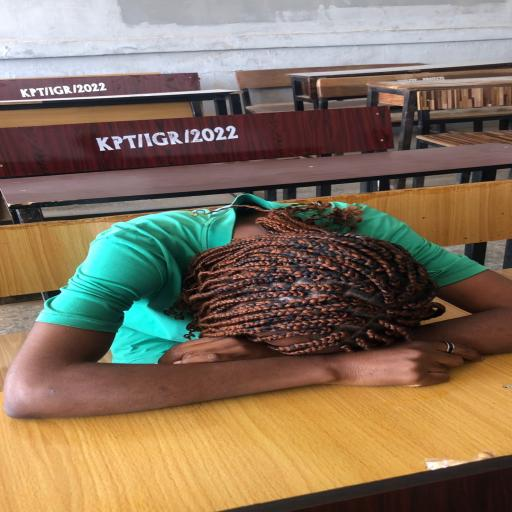Sleeping: (1, 187, 512, 420)
